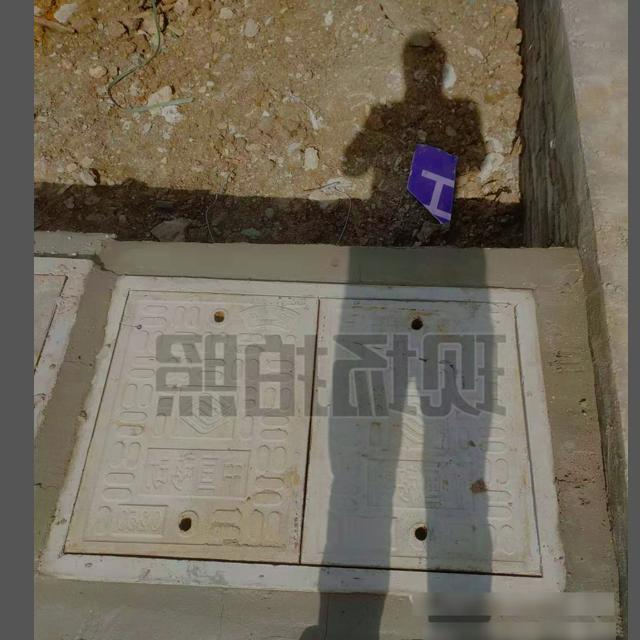good: (38, 270, 565, 606)
